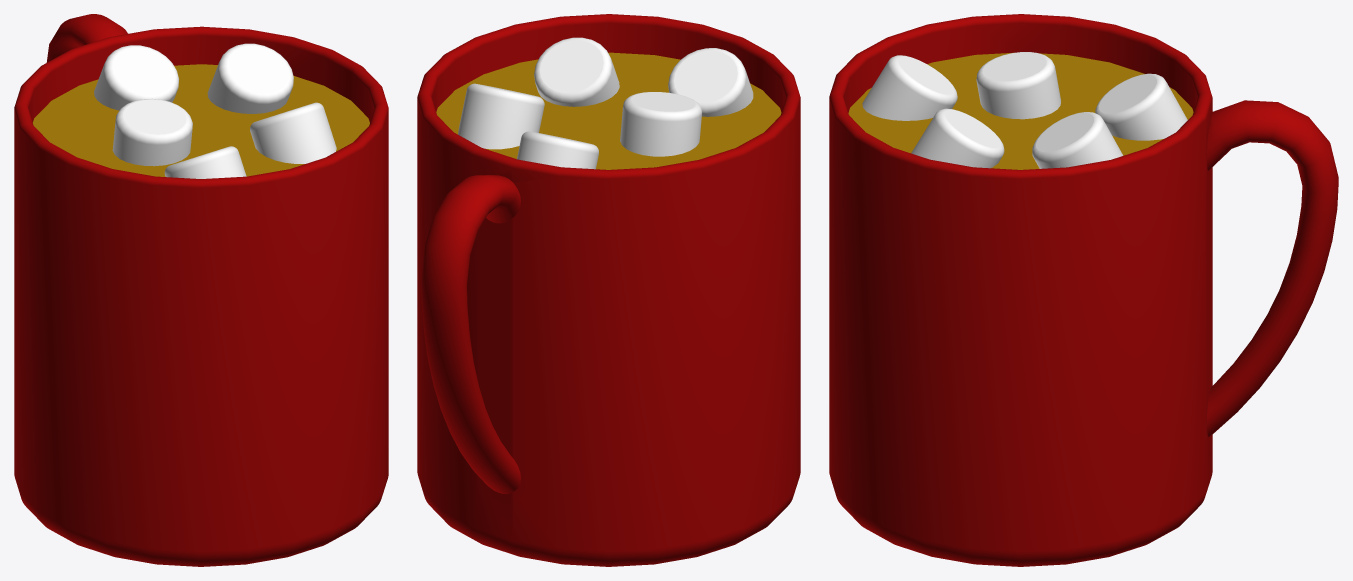
3 renders of one model, left to right at view 1: azimuth 30°, elevation 25°; view 2: azimuth 150°, elevation 25°; view 3: azimuth 270°, elevation 25°, orthographic. The views are drawn at different scales.
Visible parts, largest first — view 1: mesh6_mesh6-geometry_1, mesh6_mesh6-geometry_2, mesh2_mesh2-geometry, mesh4_mesh4-geometry, mesh3_mesh3-geometry, mesh1_mesh1-geometry, mesh5_mesh5-geometry; view 2: mesh6_mesh6-geometry_1, mesh6_mesh6-geometry_2, mesh1_mesh1-geometry, mesh4_mesh4-geometry, mesh2_mesh2-geometry, mesh5_mesh5-geometry, mesh3_mesh3-geometry; view 3: mesh6_mesh6-geometry_1, mesh6_mesh6-geometry_2, mesh4_mesh4-geometry, mesh3_mesh3-geometry, mesh5_mesh5-geometry, mesh1_mesh1-geometry, mesh2_mesh2-geometry.
Part boxes in pixels (x1,y1,x2,y2): mesh6_mesh6-geometry_1: (14, 14, 388, 566); mesh6_mesh6-geometry_2: (33, 64, 369, 176); mesh2_mesh2-geometry: (207, 43, 293, 113); mesh4_mesh4-geometry: (112, 98, 192, 166); mesh3_mesh3-geometry: (94, 45, 178, 110); mesh1_mesh1-geometry: (250, 102, 336, 163); mesh5_mesh5-geometry: (164, 146, 246, 178); mesh6_mesh6-geometry_1: (417, 14, 800, 566); mesh6_mesh6-geometry_2: (436, 52, 781, 169); mesh1_mesh1-geometry: (534, 37, 619, 106); mesh4_mesh4-geometry: (620, 92, 702, 156); mesh2_mesh2-geometry: (458, 83, 544, 149); mesh5_mesh5-geometry: (668, 48, 753, 116); mesh3_mesh3-geometry: (517, 131, 598, 169); mesh6_mesh6-geometry_1: (829, 14, 1338, 566); mesh6_mesh6-geometry_2: (848, 52, 1193, 169); mesh4_mesh4-geometry: (976, 52, 1060, 119); mesh3_mesh3-geometry: (1095, 73, 1187, 140); mesh5_mesh5-geometry: (862, 55, 957, 120); mesh1_mesh1-geometry: (911, 108, 1004, 168); mesh2_mesh2-geometry: (1032, 112, 1123, 168).
Size of the model in its own units: 0.4896 by 0.5805 by 0.6507.
